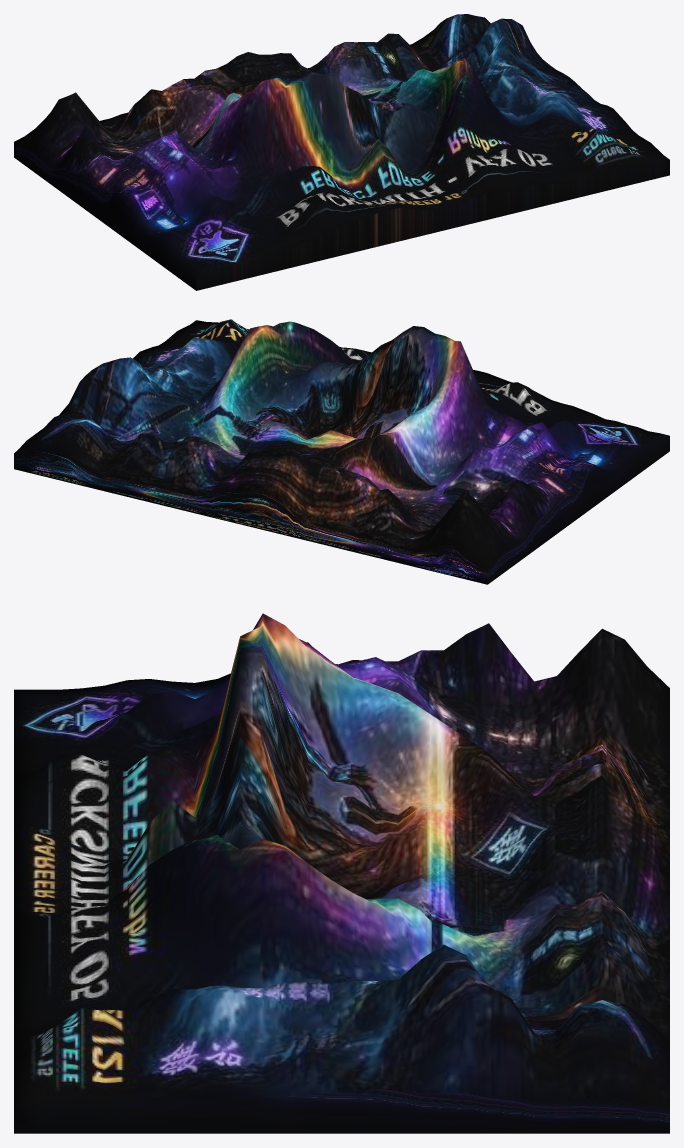
Rendered from CAREER_15_VFX_05_Perfect.glb.
The picture shows the model from 3 angles, top to bottom: view 1: azimuth 30°, elevation 25°; view 2: azimuth 150°, elevation 25°; view 3: azimuth 270°, elevation 25°; orthographic projection. The views are drawn at different scales.
Visible parts, largest first — view 1: CAREER_15_VFX_05_Perfect; view 2: CAREER_15_VFX_05_Perfect; view 3: CAREER_15_VFX_05_Perfect.
Part boxes in pixels (left/top/right/bottom): CAREER_15_VFX_05_Perfect: left=14, top=14, right=669, bottom=290; CAREER_15_VFX_05_Perfect: left=14, top=319, right=669, bottom=584; CAREER_15_VFX_05_Perfect: left=14, top=613, right=669, bottom=1133.
Bounding box in the file's own units: 2 × 0.51 × 1.33.
1 material, 1 textured.
